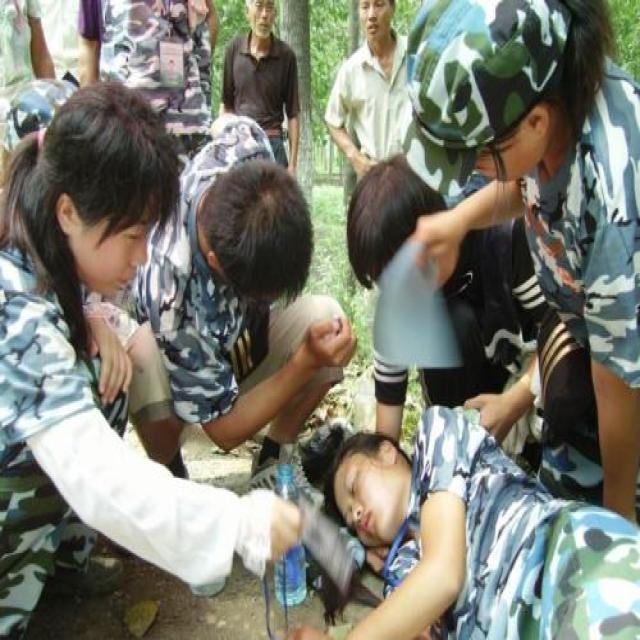10-: (1, 0, 638, 638)
down: (285, 398, 639, 638)
